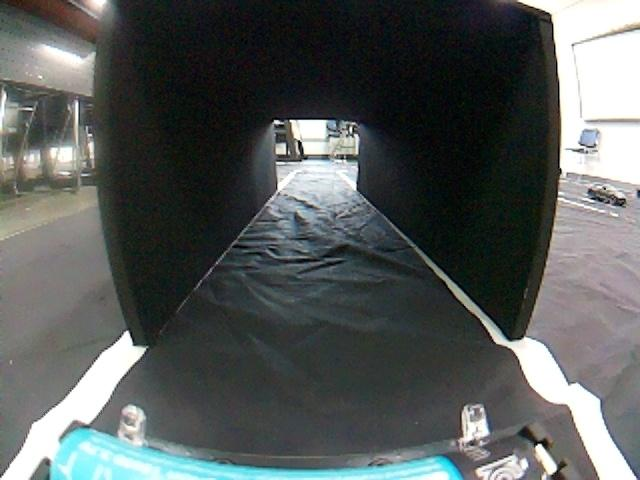go: (15, 343, 632, 474)
in_tunnel: (112, 5, 544, 335)
